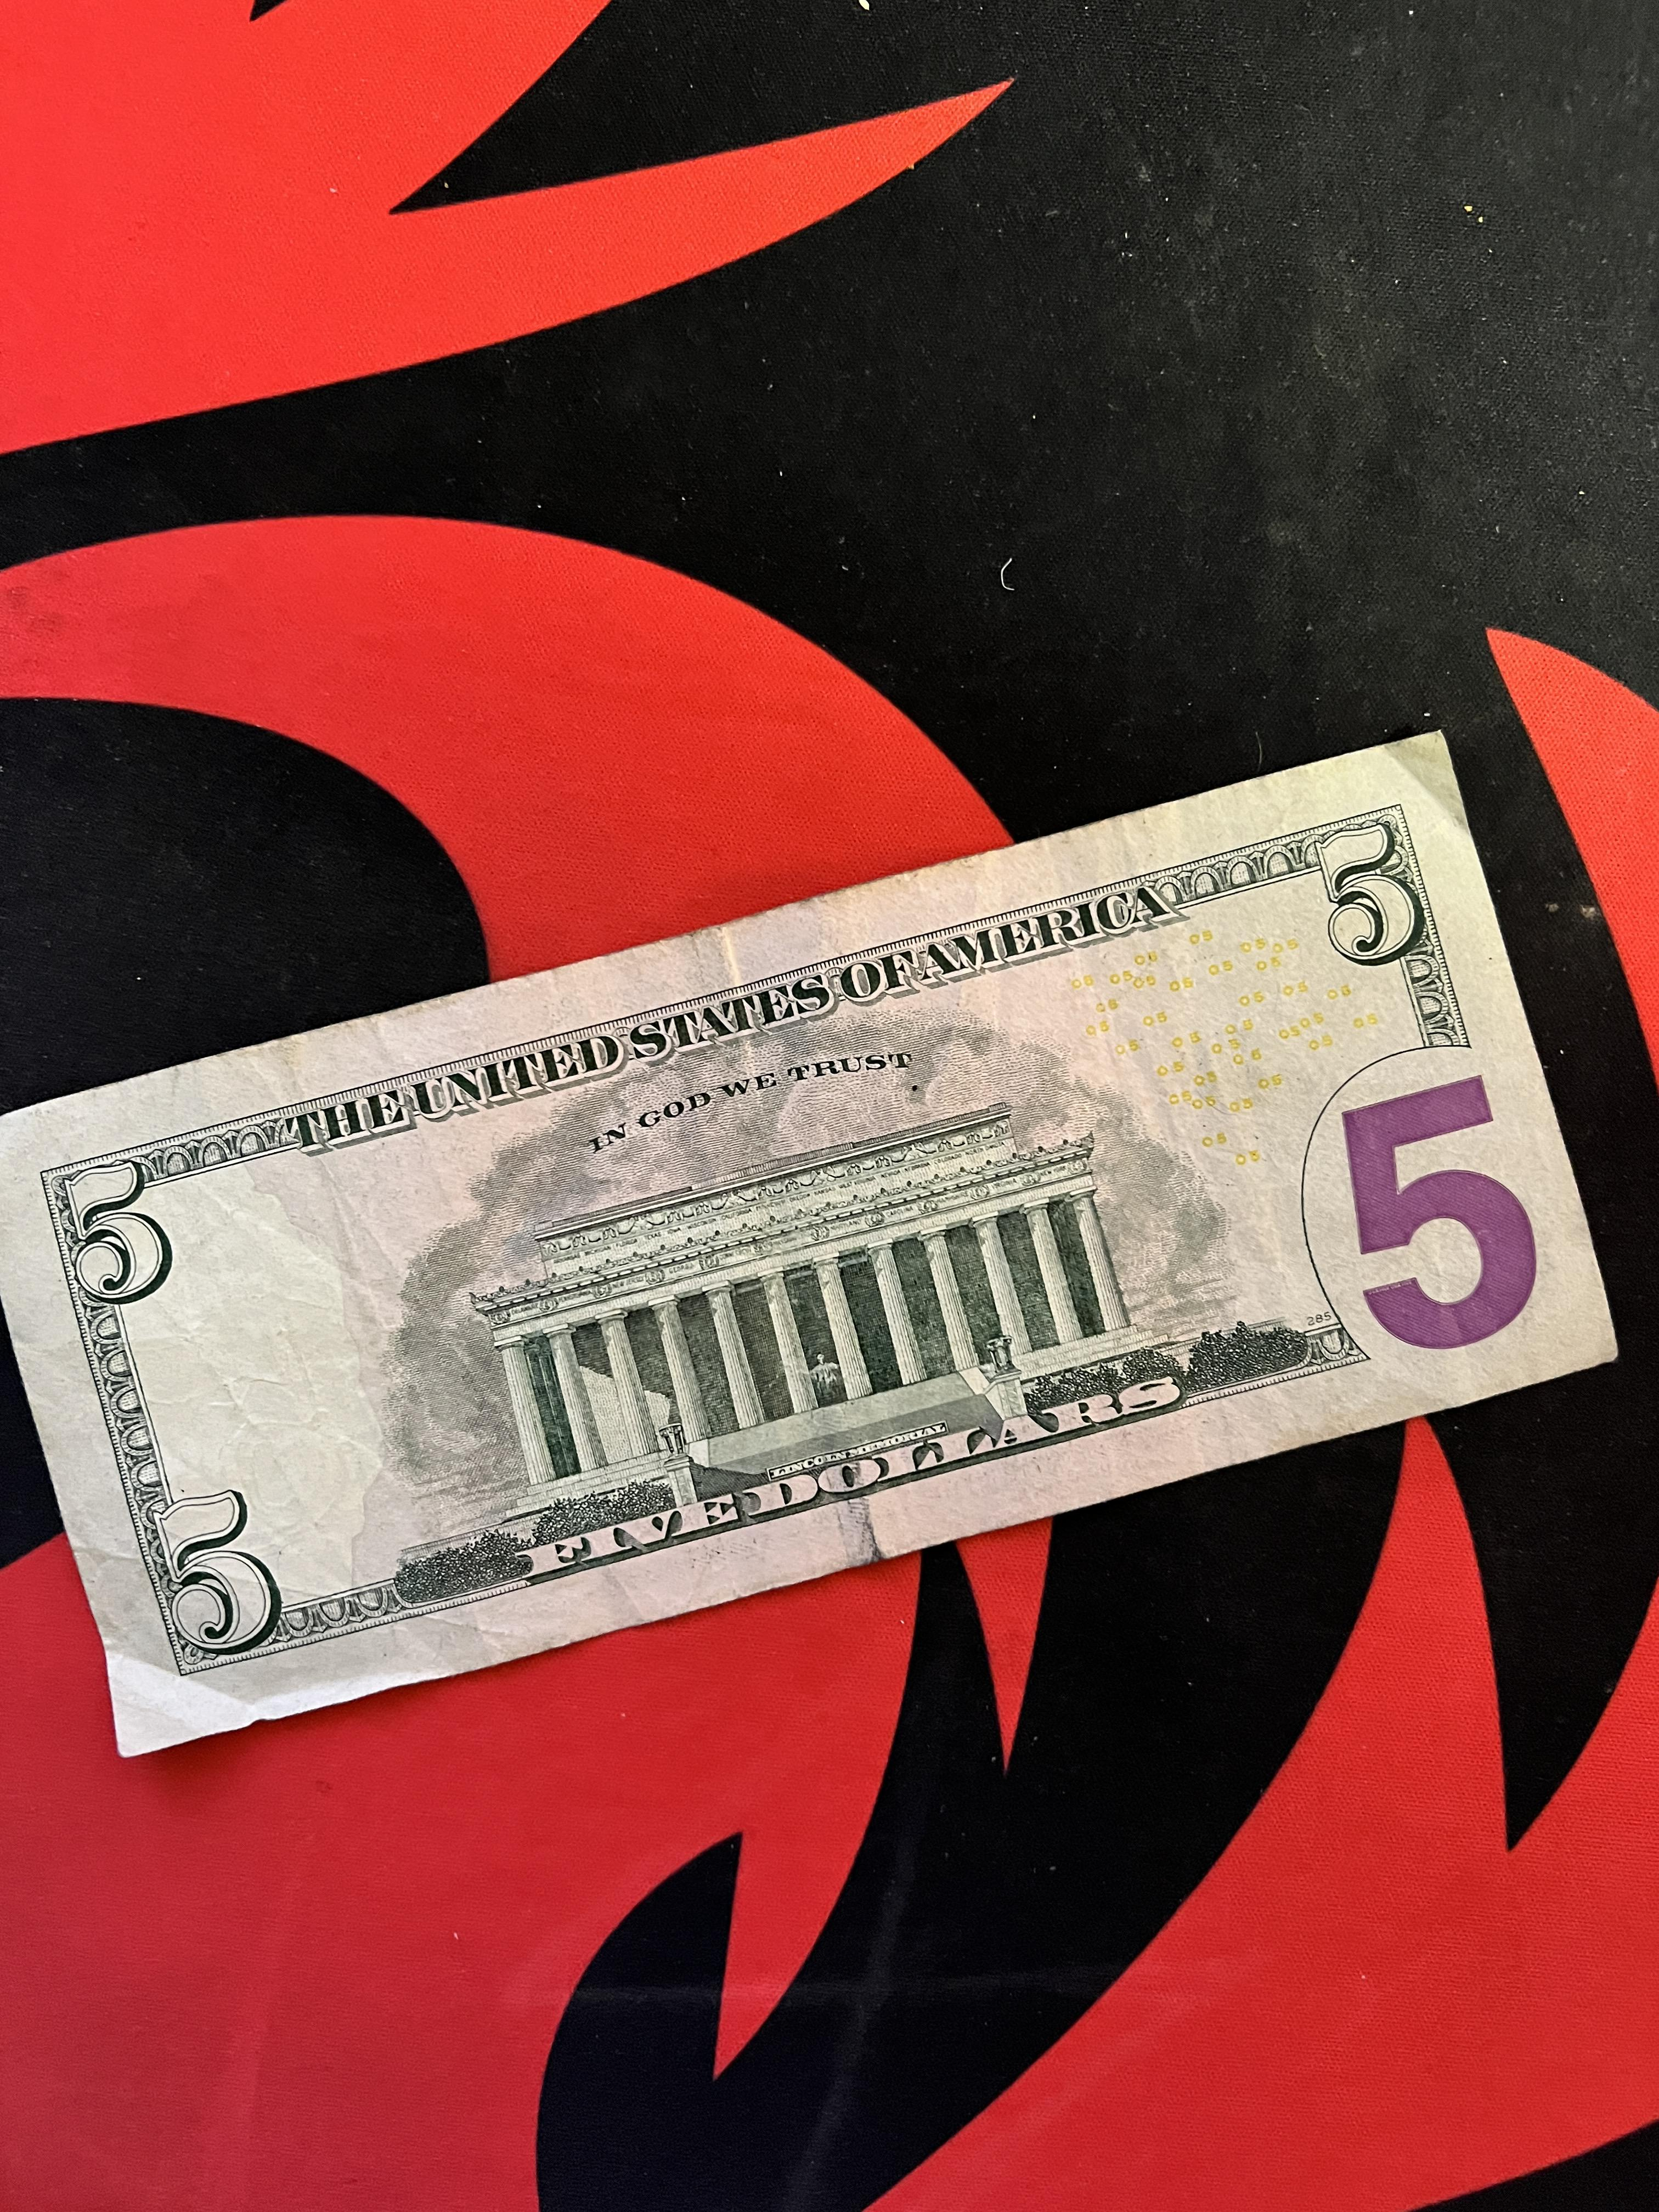FiveBill: (7, 719, 1628, 1763)
